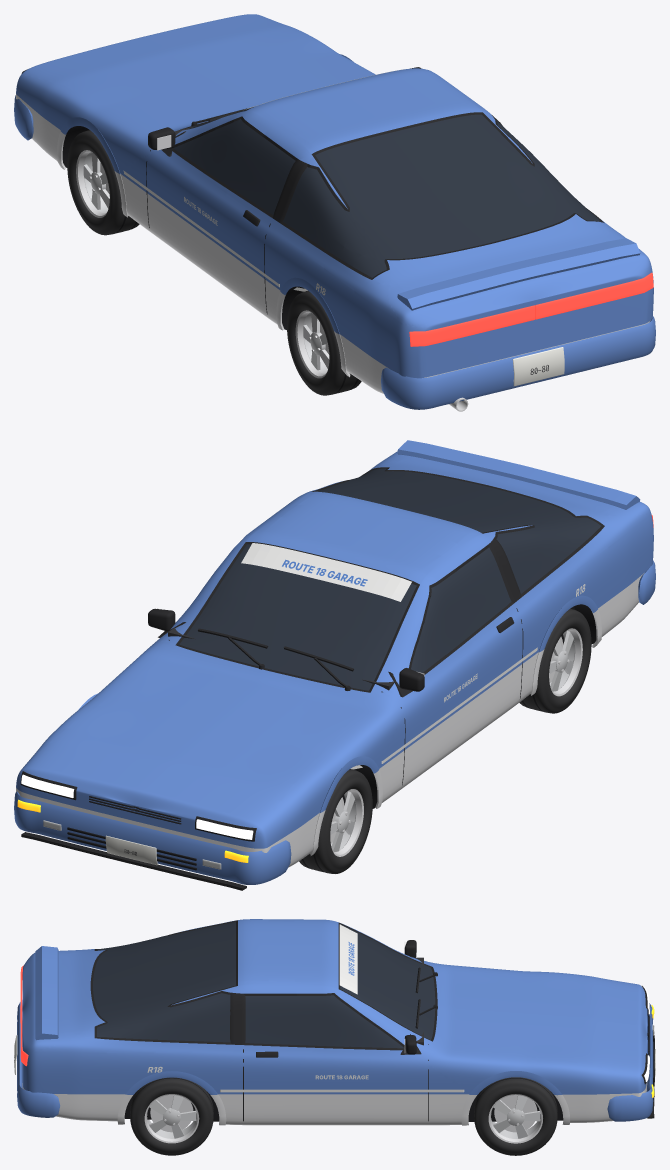
File: sil80.glb
The picture shows the model from 3 angles, top to bottom: view 1: azimuth 30°, elevation 25°; view 2: azimuth 150°, elevation 25°; view 3: azimuth 270°, elevation 25°; orthographic projection. The views are drawn at different scales.
Parts seen in each view (by area): view 1: Body, Wheel_RL, Wheel_FL; view 2: Body, Wheel_FL, Wheel_RL; view 3: Body, Wheel_FR, Wheel_RR.
Boxes of the visible parts, x1=… form: Body: x1=14, y1=14, x2=655, y2=411; Wheel_RL: x1=287, y1=290, x2=361, y2=395; Wheel_FL: x1=67, y1=130, x2=139, y2=235; Body: x1=14, y1=440, x2=655, y2=890; Wheel_FL: x1=299, y1=769, x2=372, y2=873; Wheel_RL: x1=519, y1=608, x2=591, y2=713; Body: x1=14, y1=919, x2=655, y2=1125; Wheel_FR: x1=474, y1=1077, x2=557, y2=1155; Wheel_RR: x1=130, y1=1077, x2=213, y2=1155.
Bounding box in the file's own units: 1.78 × 1.27 × 4.62.
